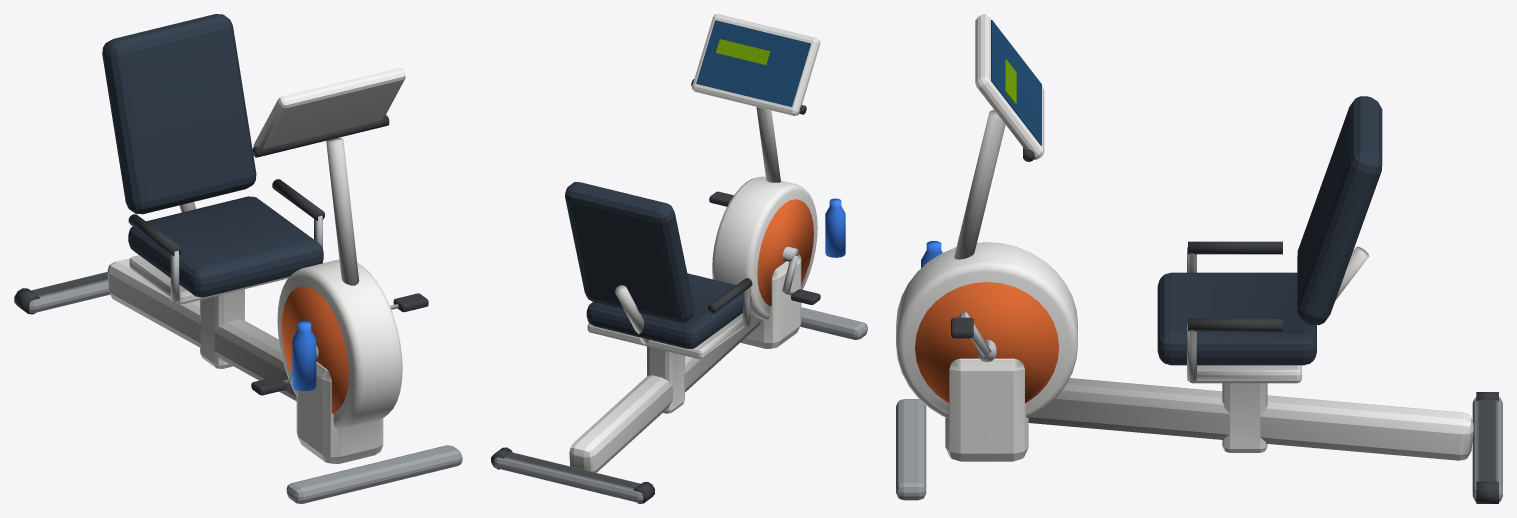
File: spinBike.glb
The picture shows the model from 3 angles, left to right: view 1: azimuth 30°, elevation 25°; view 2: azimuth 150°, elevation 25°; view 3: azimuth 270°, elevation 25°; orthographic projection. The views are drawn at different scales.
Parts seen in each view (by area): view 1: body, cranks; view 2: body, cranks; view 3: body, cranks.
Part boxes in pixels (box(x1,y1,x2,y2)): body: box(14, 14, 462, 503); cranks: box(251, 293, 428, 395); body: box(491, 14, 867, 503); cranks: box(709, 191, 820, 304); body: box(896, 14, 1502, 503); cranks: box(951, 312, 996, 362).
Size of the model in its own units: 0.6171 by 1.2 by 1.6.
